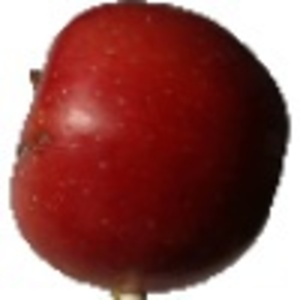maçã braeburn: (7, 1, 289, 292)
